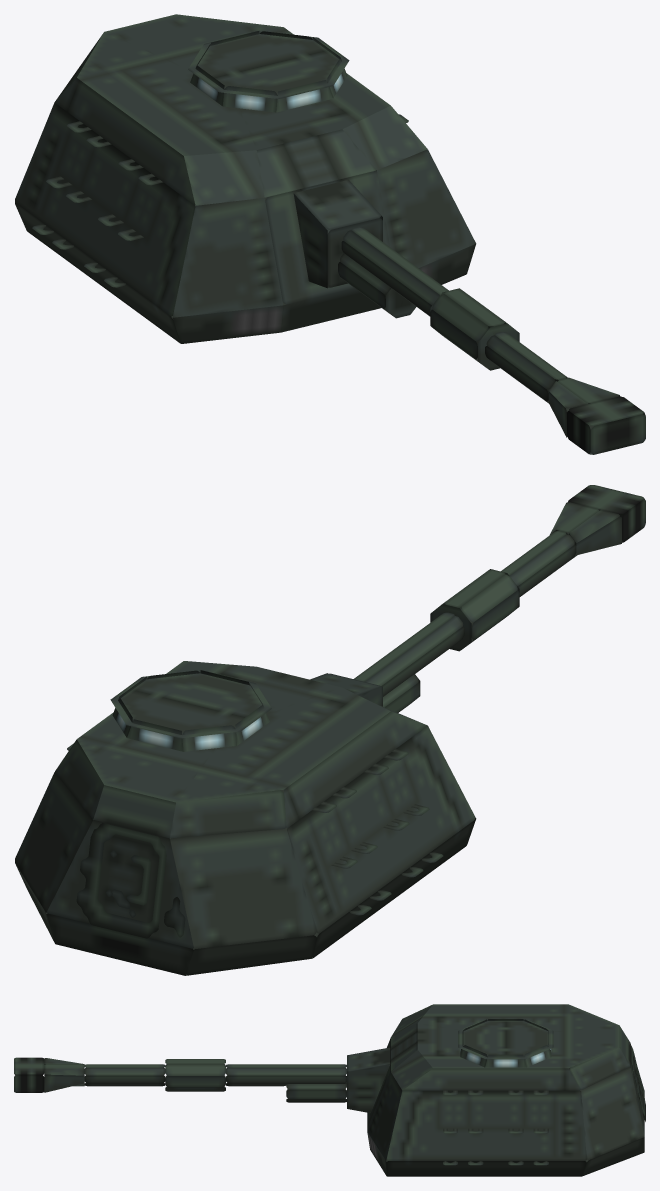
File: artillery_cannon.obj
3 renders of one model, top to bottom at view 1: azimuth 30°, elevation 25°; view 2: azimuth 150°, elevation 25°; view 3: azimuth 270°, elevation 25°, orthographic. The views are drawn at different scales.
Visible parts, largest first — view 1: cylinder5, cylinder12, cylinder, cylinder_selection11, cylinder6, cuboid, cube3, cylinder8, cylinder10, cylinder9, cylinder7, cube2 (+1 smaller); view 2: cylinder5, cylinder12, cylinder, cylinder_selection11, cylinder6, cylinder_selection, cylinder8, cylinder10, cylinder7, cube3, cuboid, cylinder9 (+1 smaller); view 3: cylinder5, cylinder12, cylinder6, cylinder, cylinder_selection11, cuboid, cylinder8, cylinder10, cylinder7, cylinder9, cube3, cube2 (+2 smaller).
Boxes of the visible parts, x1,y1,x2,y2 form: cylinder5: (15, 77, 475, 317); cylinder12: (55, 14, 427, 205); cylinder: (15, 197, 475, 343); cylinder_selection11: (188, 31, 349, 98); cylinder6: (341, 227, 567, 403); cuboid: (293, 179, 382, 288); cube3: (567, 396, 645, 454); cylinder8: (430, 288, 519, 370); cylinder10: (190, 31, 347, 112); cylinder9: (338, 253, 416, 318); cylinder7: (548, 377, 620, 437); cube2: (46, 176, 143, 240); cylinder5: (15, 725, 475, 949); cylinder12: (55, 661, 426, 838); cylinder: (15, 789, 475, 975); cylinder_selection11: (110, 670, 271, 738); cylinder6: (353, 531, 576, 696); cylinder_selection: (76, 823, 166, 938); cylinder8: (430, 569, 519, 651); cylinder10: (112, 670, 269, 751); cylinder7: (549, 502, 621, 560); cube3: (568, 485, 645, 542); cuboid: (310, 673, 382, 706); cylinder9: (383, 674, 420, 712); cylinder5: (367, 1037, 644, 1160); cylinder12: (391, 1004, 630, 1090); cylinder6: (84, 1064, 346, 1086); cylinder: (367, 1068, 644, 1176); cylinder_selection11: (458, 1019, 553, 1059); cuboid: (347, 1047, 390, 1113); cylinder8: (165, 1059, 225, 1091); cylinder10: (460, 1019, 551, 1067); cylinder7: (44, 1058, 84, 1092); cylinder9: (286, 1075, 346, 1102); cube3: (14, 1057, 44, 1092); cube2: (443, 1128, 548, 1133).
Size of the model in its own units: 3.45 by 1.69 by 9.
